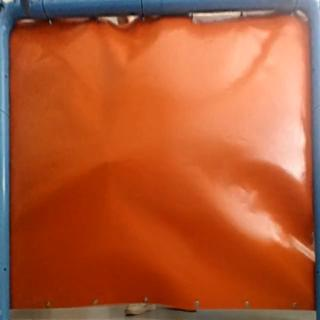Hit-hRxx: (103, 154, 117, 167)
